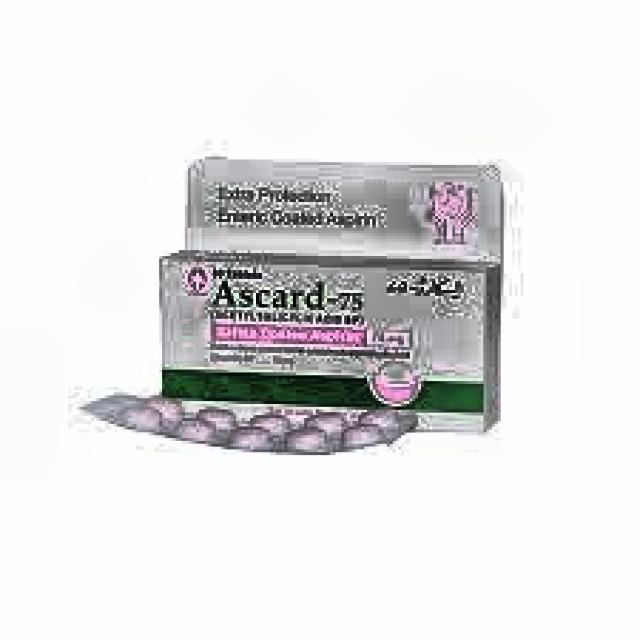Aspirin: (161, 252, 497, 429)
